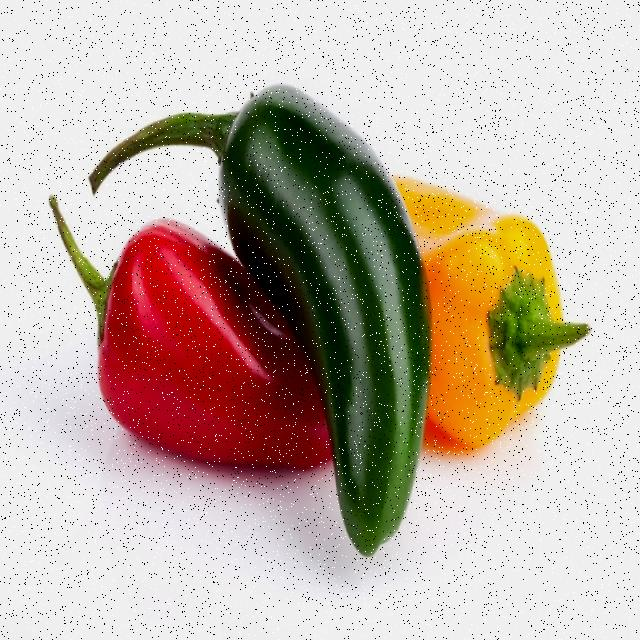Chili Pepper: (207, 86, 428, 618), (65, 210, 354, 490), (378, 109, 584, 461)
